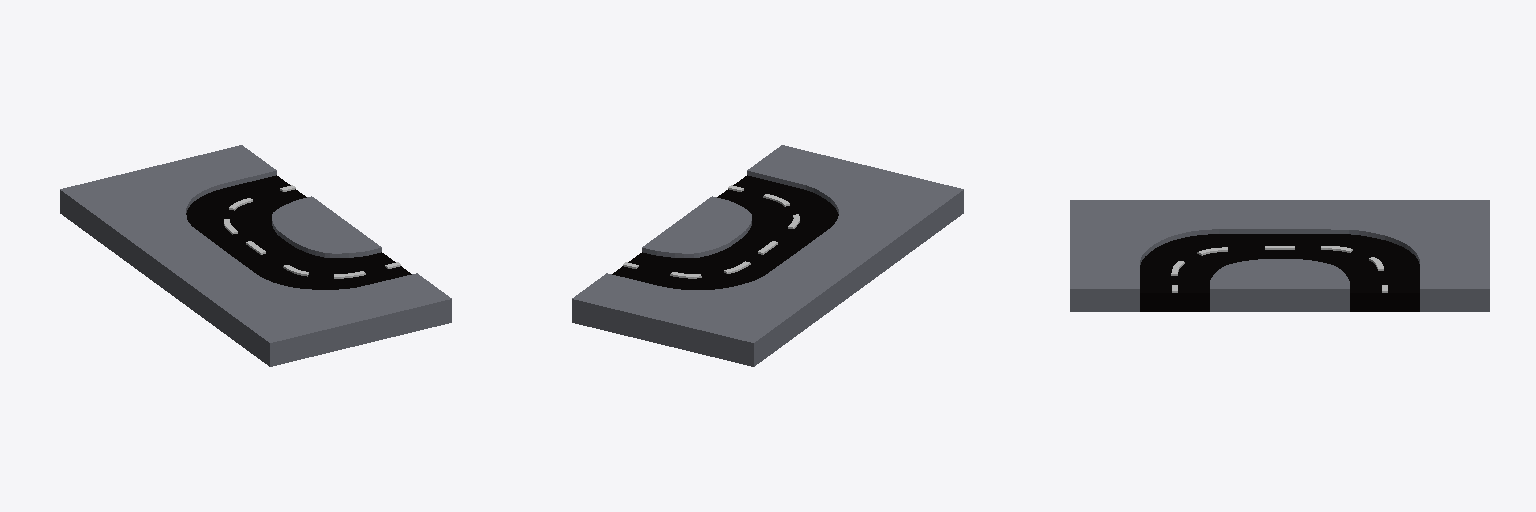
The model's file is Street_Curve_Curve_Down.obj.
The picture shows the model from 3 angles: view 1: azimuth 30°, elevation 25°; view 2: azimuth 150°, elevation 25°; view 3: azimuth 270°, elevation 25°; orthographic projection.
Visible parts, largest first — view 1: Street_Curve.001_Cube.004, Street_Curve_Cube.001; view 2: Street_Curve_Cube.001, Street_Curve.001_Cube.004; view 3: Street_Curve_Cube.001, Street_Curve.001_Cube.004.
Boxes of the visible parts, <box> form: Street_Curve.001_Cube.004: <box>165,222,451,366</box>; Street_Curve_Cube.001: <box>60,145,346,289</box>; Street_Curve_Cube.001: <box>572,222,858,366</box>; Street_Curve.001_Cube.004: <box>677,145,963,289</box>; Street_Curve_Cube.001: <box>1280,200,1489,311</box>; Street_Curve.001_Cube.004: <box>1070,200,1279,311</box>.
Bounding box in the file's own units: 2 × 0.25 × 4.